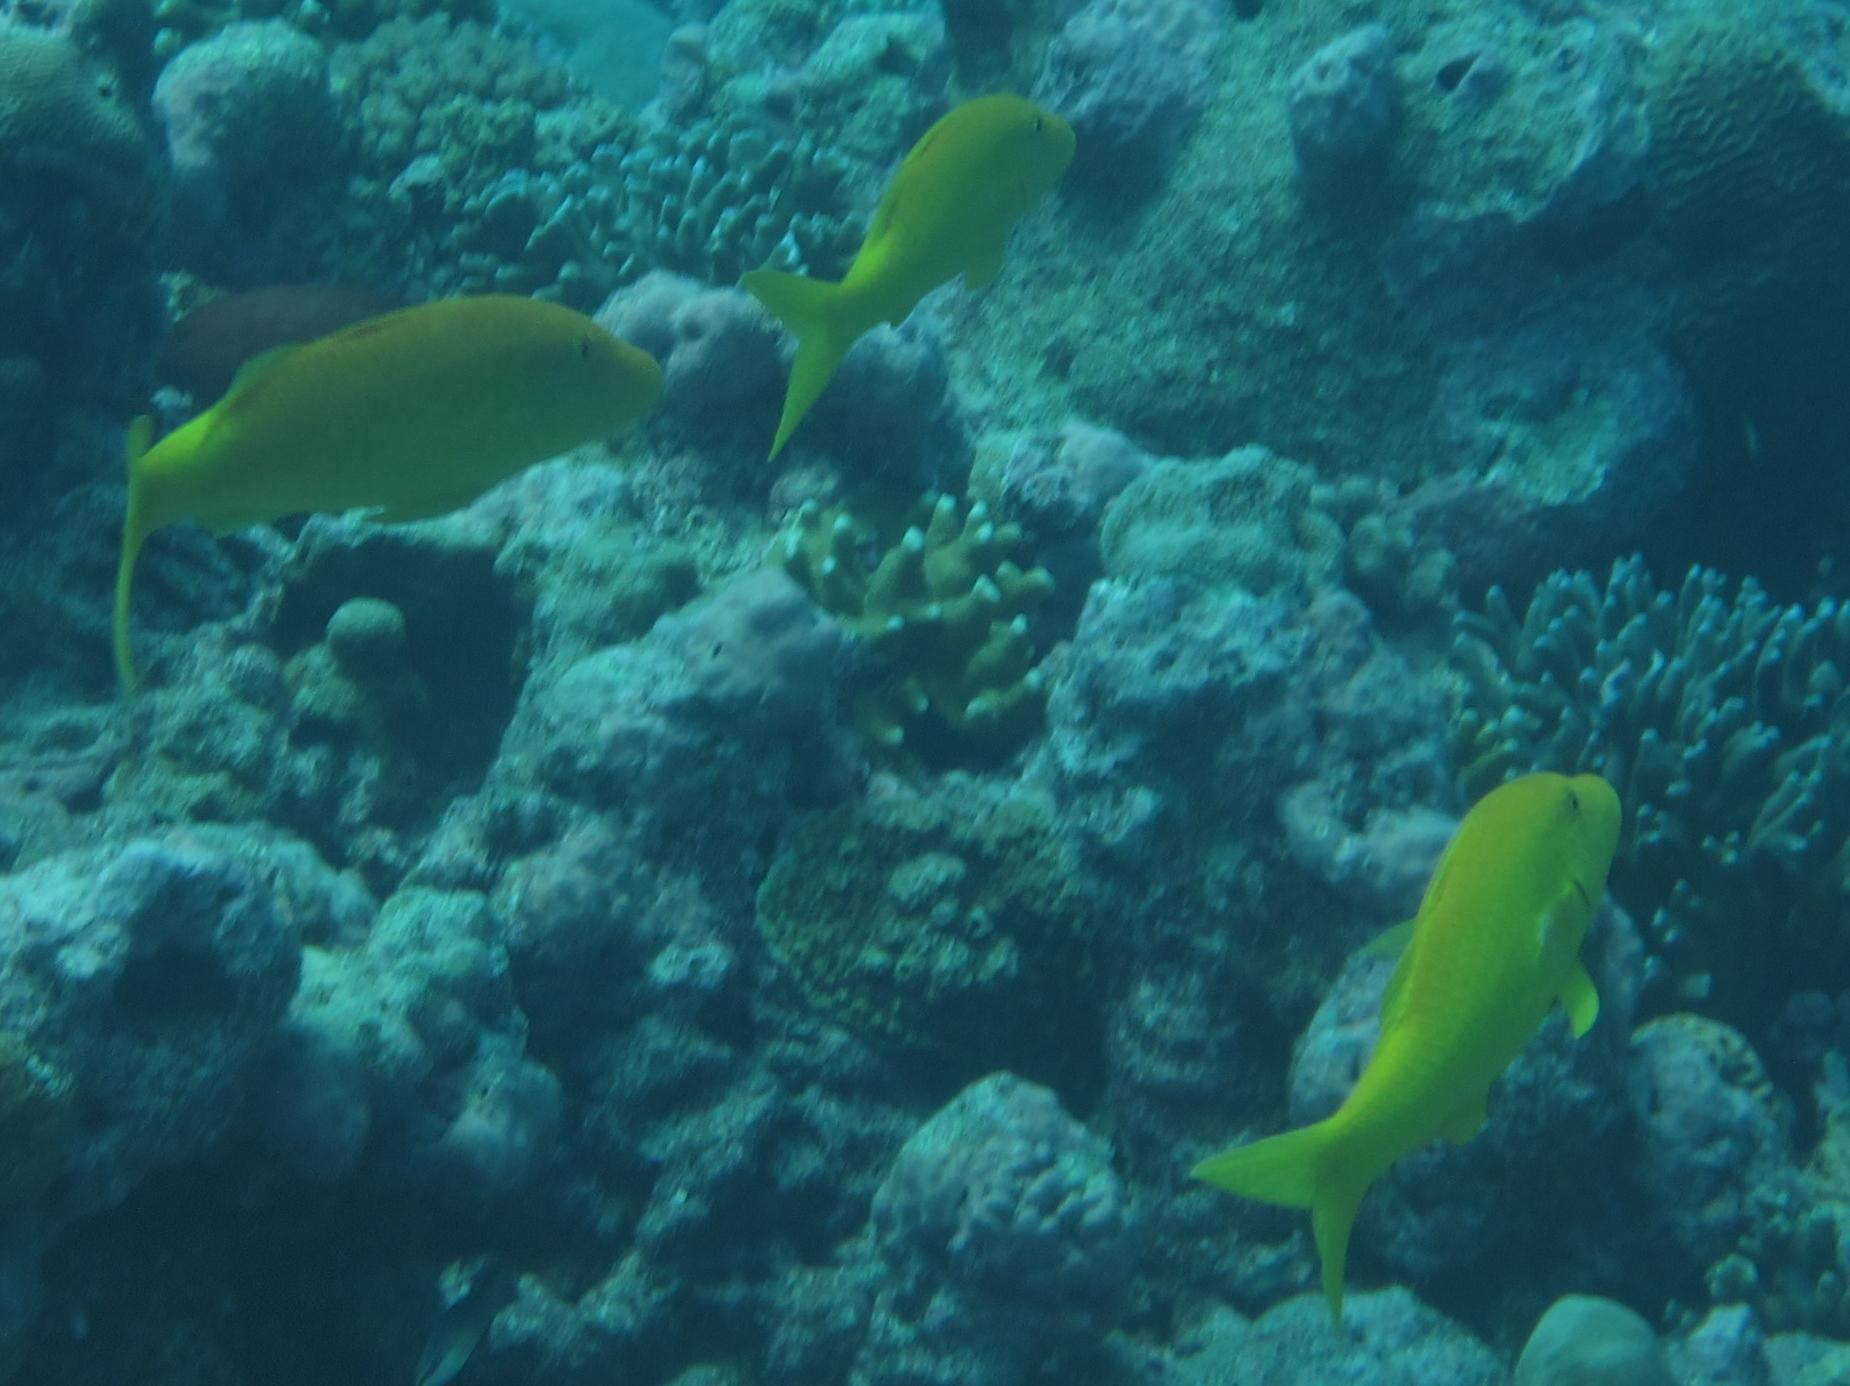Fish: (1164, 744, 1675, 1338), (79, 288, 675, 713), (712, 66, 1095, 459)
